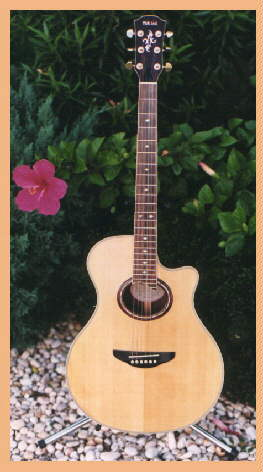guitar: (61, 12, 226, 436)
